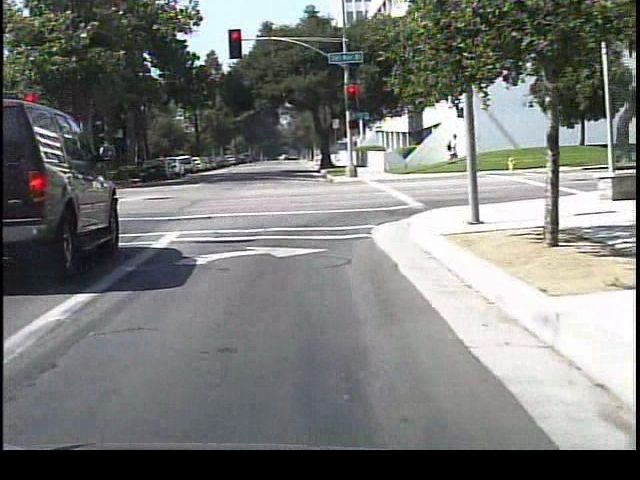person: (440, 127, 463, 161)
